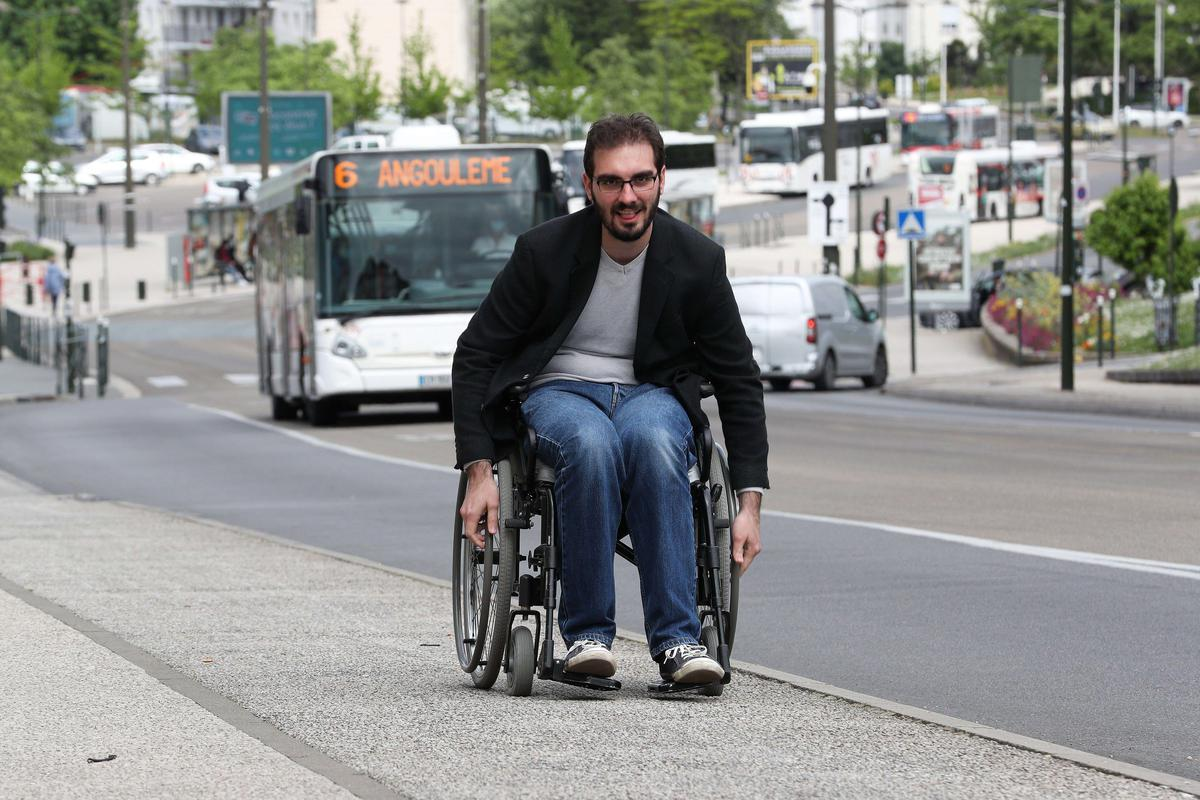wheelchair: (452, 113, 772, 697)
